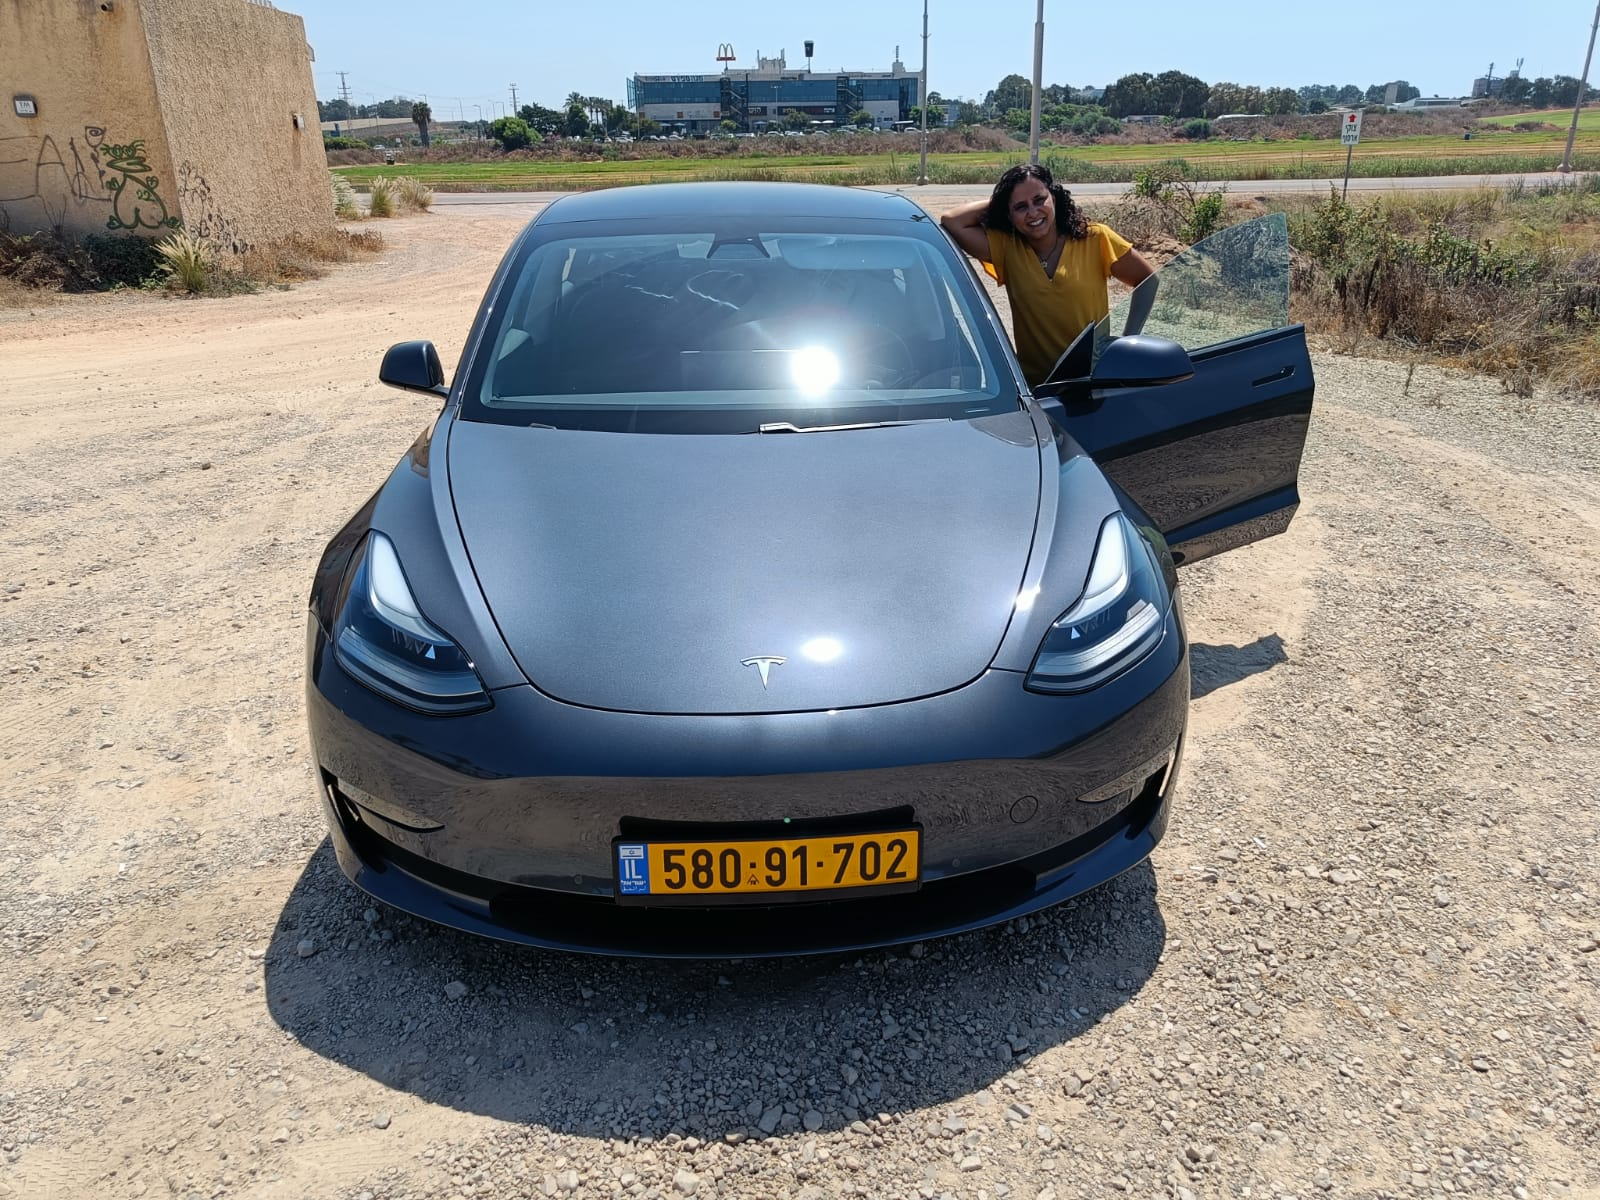licence: (613, 830, 926, 891)
